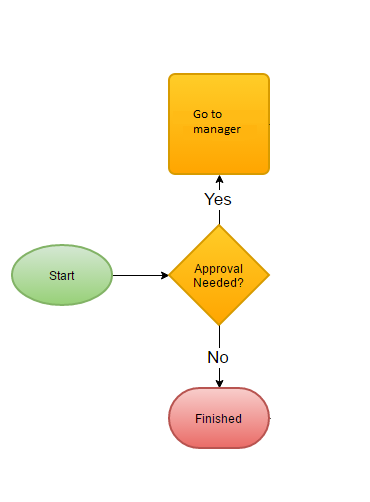arrow: (214, 320, 224, 388), (213, 174, 225, 228), (109, 271, 174, 280)
decision: (164, 222, 273, 328)
process: (166, 71, 274, 178)
terminator: (166, 386, 273, 451), (9, 242, 115, 307)
text: (190, 108, 242, 139), (192, 261, 244, 290), (193, 411, 244, 425), (202, 190, 234, 207), (206, 348, 229, 367), (46, 269, 77, 281)
